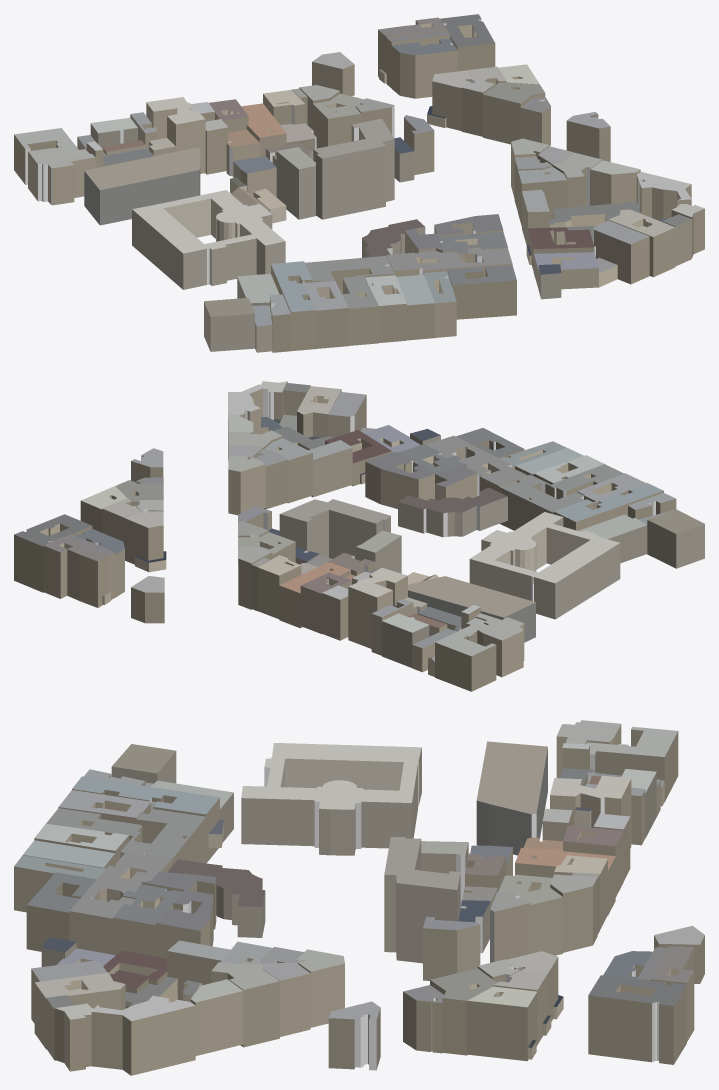
3 views of the same model, one above another, from view 1: azimuth 30°, elevation 25°; view 2: azimuth 150°, elevation 25°; view 3: azimuth 270°, elevation 25° (orthographic). The views are drawn at different scales.
Visible parts, largest first — view 1: tuile; view 2: tuile; view 3: tuile.
Part boxes in pixels (x1,y1,x2,y2): tuile: [14, 14, 704, 352]; tuile: [14, 381, 704, 691]; tuile: [14, 720, 704, 1075].
Size of the model in its own units: 267 by 38.39 by 261.
